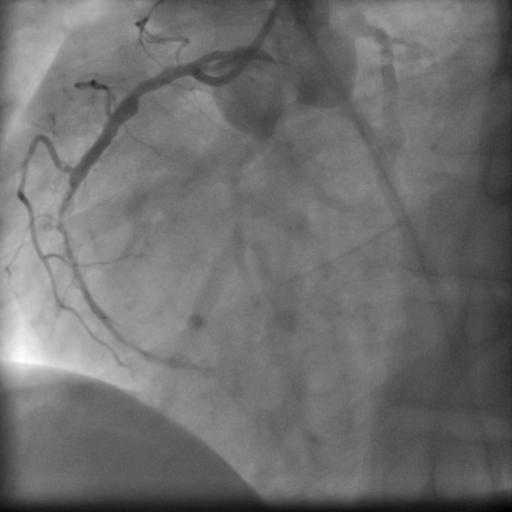Stenosis: (127, 73, 151, 99)
